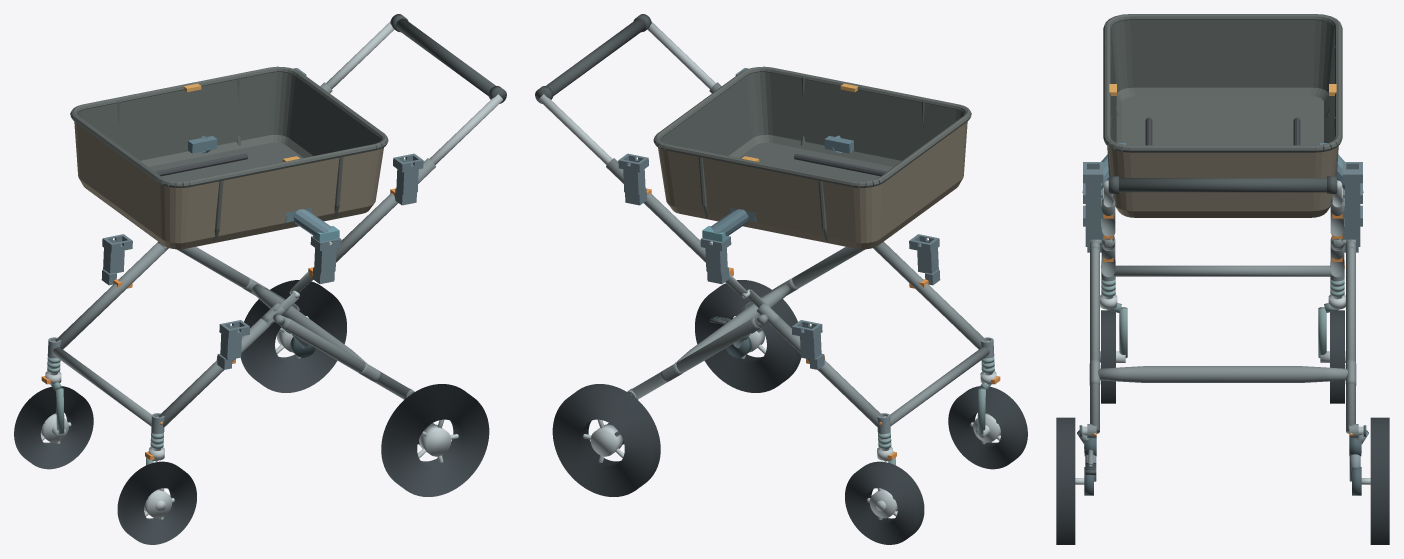
File: S14_w650_state1_wheel_M.glb
3 renders of one model, left to right at view 1: azimuth 30°, elevation 25°; view 2: azimuth 150°, elevation 25°; view 3: azimuth 270°, elevation 25°, orthographic. The views are drawn at different scales.
Parts seen in each view (by area): view 1: S14_Cabin, RL_tire.008, RR_tire.008, FL_tire.008, FR_tire.008, main_lower_1.009, round_handle.008, V46_rear_leg_-1.009, main_lower_-1.009, S14_Cabin_Mount_M, front_fixed_round_tube.008, main_upper_-1.009 (+9 smaller); view 2: S14_Cabin, RR_tire.008, RL_tire.008, FR_tire.008, FL_tire.008, main_lower_-1.009, round_handle.008, V46_rear_leg_1.009, main_lower_1.009, S14_Cabin_Mount_M, front_fixed_round_tube.008, main_upper_1.009 (+9 smaller); view 3: S14_Cabin, V46_rearbar.009, round_handle.008, front_fixed_round_tube.008, RL_tire.008, RR_tire.008, V46_rear_leg_1.009, V46_rear_leg_-1.009, FL_tire.008, FR_tire.008, Universal_Cabin_Receiver_H_1, Universal_Cabin_Receiver_H_-1 (+6 smaller).
Part boxes in pixels (box(x1,y1,x2,y2)): S14_Cabin: box(70, 66, 388, 249); RL_tire.008: box(381, 384, 489, 496); RR_tire.008: box(240, 280, 346, 392); FL_tire.008: box(117, 461, 196, 544); FR_tire.008: box(14, 386, 93, 469); main_lower_1.009: box(55, 242, 167, 349); round_handle.008: box(396, 18, 505, 102); V46_rear_leg_-1.009: box(281, 318, 410, 399); main_lower_-1.009: box(158, 318, 273, 427); S14_Cabin_Mount_M: box(188, 135, 339, 244); front_fixed_round_tube.008: box(52, 347, 151, 425); main_upper_-1.009: box(336, 158, 435, 262); S14_Cabin: box(653, 66, 971, 249); RR_tire.008: box(552, 384, 660, 496); RL_tire.008: box(695, 280, 801, 392); FR_tire.008: box(845, 461, 924, 544); FL_tire.008: box(948, 386, 1027, 469); main_lower_-1.009: box(874, 242, 986, 349); round_handle.008: box(536, 18, 645, 102); V46_rear_leg_1.009: box(631, 318, 760, 399); main_lower_1.009: box(768, 318, 883, 427); S14_Cabin_Mount_M: box(702, 135, 853, 244); front_fixed_round_tube.008: box(890, 347, 989, 425); main_upper_1.009: box(606, 158, 705, 262); S14_Cabin: box(1103, 14, 1342, 217); V46_rearbar.009: box(1098, 366, 1347, 382); round_handle.008: box(1108, 178, 1337, 192); front_fixed_round_tube.008: box(1113, 265, 1332, 276); RL_tire.008: box(1056, 417, 1075, 544); RR_tire.008: box(1370, 417, 1389, 544); V46_rear_leg_1.009: box(1346, 246, 1355, 433); V46_rear_leg_-1.009: box(1090, 246, 1099, 433); FL_tire.008: box(1101, 310, 1115, 403); FR_tire.008: box(1330, 310, 1344, 403); Universal_Cabin_Receiver_H_1: box(1342, 162, 1362, 218); Universal_Cabin_Receiver_H_-1: box(1083, 162, 1103, 218).
Size of the model in its own units: 1.16 by 1.06 by 0.7871.
